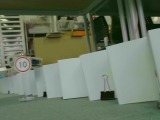speed_10: (13, 56, 33, 74)
